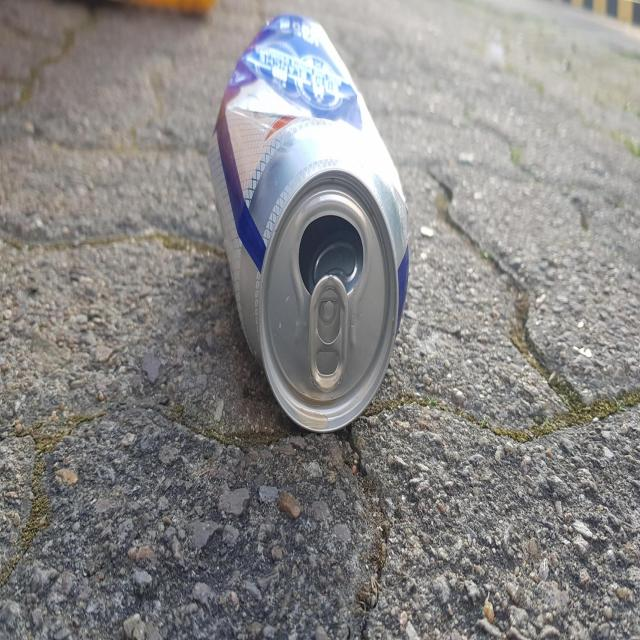can: (208, 12, 409, 431)
